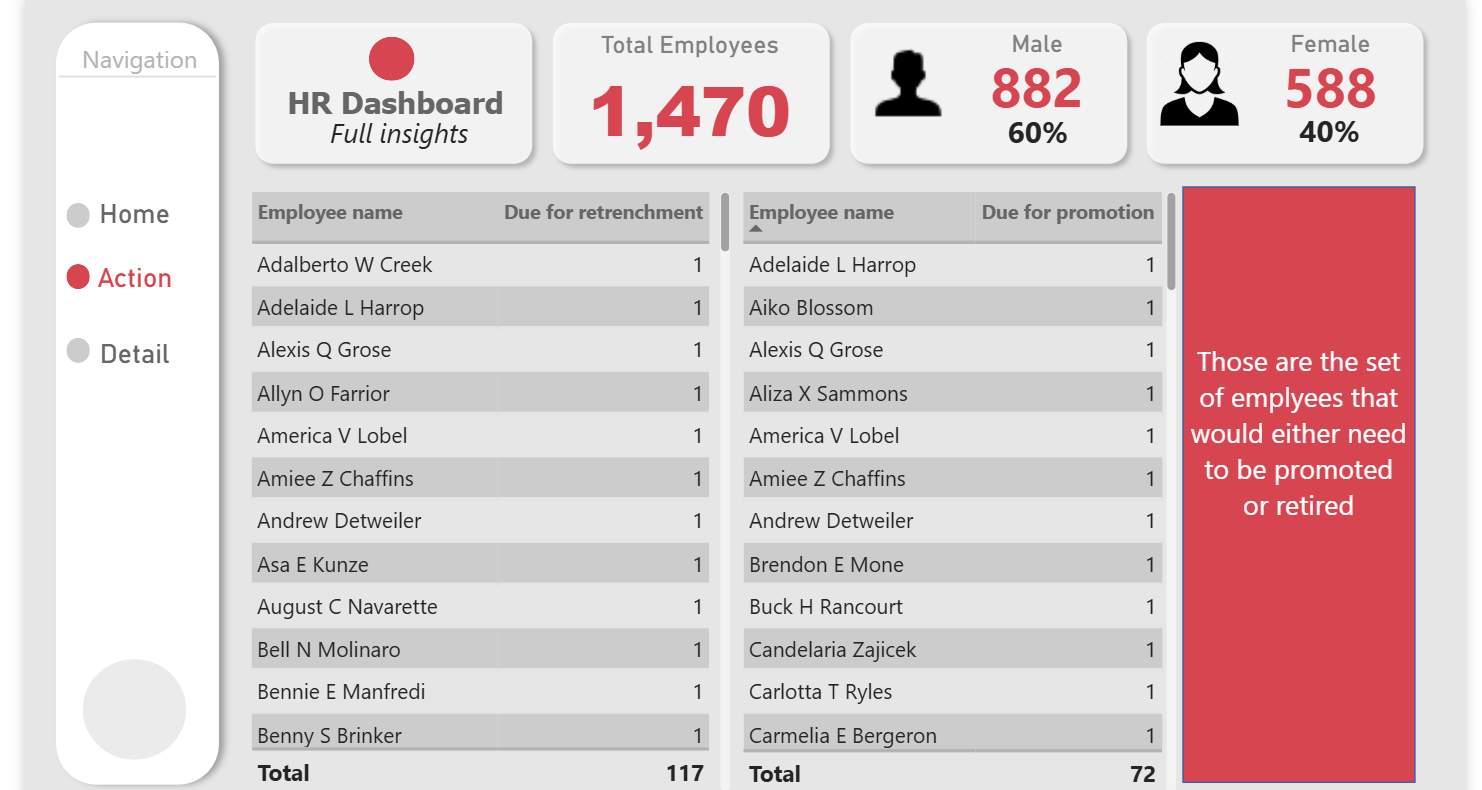

The dashboard page shown, as its layout file describes it:
{"tool":"powerbi","page":{"name":"Action","canvas":[1280,720],"ordinal":1},"visuals":[{"type":"shape","box":[1028.6,166.2,207,530.1],"z":0},{"type":"shape","box":[16.5,9.6,166.5,699.2],"z":1000},{"type":"shape","box":[195.4,12.4,264.3,143.1],"z":2000},{"type":"shape","box":[459.7,12.4,264.3,143.1],"z":3000},{"type":"shape","box":[724,12.4,264.3,143.1],"z":4000},{"type":"shape","box":[988.2,12.4,264.3,143.1],"z":5000},{"type":"textbox","box":[209.7,71.2,238.7,51.4],"z":6000},{"type":"textbox","box":[36.9,33,130.5,51.4],"z":7000},{"type":"textbox","box":[209.7,97.6,251.9,55.4],"z":8000},{"type":"shape","box":[305.9,33,40.9,39.6],"z":9000},{"type":"card","title":"Total Employees","fields":{"Values":["All Measures.Total Emp"]},"box":[468,27.5,246.4,112.9],"z":10000},{"type":"card","title":"Male","fields":{"Values":["All Measures.Male"]},"box":[814.8,26.2,170.7,75.7],"z":11000},{"type":"card","fields":{"Values":["All Measures.Male %"]},"box":[834.1,90.8,132.1,55.1],"z":12000},{"type":"card","title":"Female","fields":{"Values":["All Measures.Female"]},"box":[1068.7,26.2,183.1,75.7],"z":13000},{"type":"card","fields":{"Values":["All Measures.Female %"]},"box":[1083.9,90.8,152.8,53.7],"z":14000},{"type":"image","box":[736.3,26.2,95,90.8],"z":15000},{"type":"image","box":[1004.7,33,79.8,84],"z":16000},{"type":"tableEx","fields":{"Values":["HR employee data.Emplyee name","All Measures.Due for retirment"]},"box":[195.4,166.5,436.3,542.3],"z":17000},{"type":"tableEx","fields":{"Values":["HR employee data.Emplyee name","All Measures.Due for promotion"]},"box":[631.7,166.5,396.4,543.7],"z":18000},{"type":"textbox","box":[1029.3,299.6,206.6,217.4],"z":19000},{"type":"shape","box":[36.9,300.7,21.1,22.4],"z":20000},{"type":"actionButton","title":"Detail","box":[27.7,300.7,139.8,58],"z":21000},{"type":"shape","box":[36.9,236,21.1,22.4],"z":22000},{"type":"actionButton","title":"Action","box":[27.7,233.4,139.8,65.9],"z":23000},{"type":"shape","box":[36.9,180.7,21.1,22.4],"z":24000},{"type":"actionButton","title":"Home","box":[27.7,176.7,139.8,56.7],"z":25000},{"type":"shape","box":[51.4,586.8,92.3,89.7],"z":26000},{"type":"shape","box":[30.2,61.6,140.1,15.7],"z":27000}]}

Visuals, with their boxes on the page's 1280x720 design canvas (x1, y1, x2, y2). These are canvas units, not pixel positions in the 1482x790 screenshot, which may show the page scaled, cropped or inside an application window:
shape: rect(1029, 166, 1236, 696)
shape: rect(16, 10, 183, 709)
shape: rect(195, 12, 460, 156)
shape: rect(460, 12, 724, 156)
shape: rect(724, 12, 988, 156)
shape: rect(988, 12, 1252, 156)
textbox: rect(210, 71, 448, 123)
textbox: rect(37, 33, 167, 84)
textbox: rect(210, 98, 462, 153)
shape: rect(306, 33, 347, 73)
"Total Employees" card: rect(468, 28, 714, 140)
"Male" card: rect(815, 26, 986, 102)
card - All Measures.Male %: rect(834, 91, 966, 146)
"Female" card: rect(1069, 26, 1252, 102)
card - All Measures.Female %: rect(1084, 91, 1237, 144)
image: rect(736, 26, 831, 117)
image: rect(1005, 33, 1084, 117)
tableEx - HR employee data.Emplyee name x All Measures.Due for retirment: rect(195, 166, 632, 709)
tableEx - HR employee data.Emplyee name x All Measures.Due for promotion: rect(632, 166, 1028, 710)
textbox: rect(1029, 300, 1236, 517)
shape: rect(37, 301, 58, 323)
"Detail" actionButton: rect(28, 301, 168, 359)
shape: rect(37, 236, 58, 258)
"Action" actionButton: rect(28, 233, 168, 299)
shape: rect(37, 181, 58, 203)
"Home" actionButton: rect(28, 177, 168, 233)
shape: rect(51, 587, 144, 676)
shape: rect(30, 62, 170, 77)
